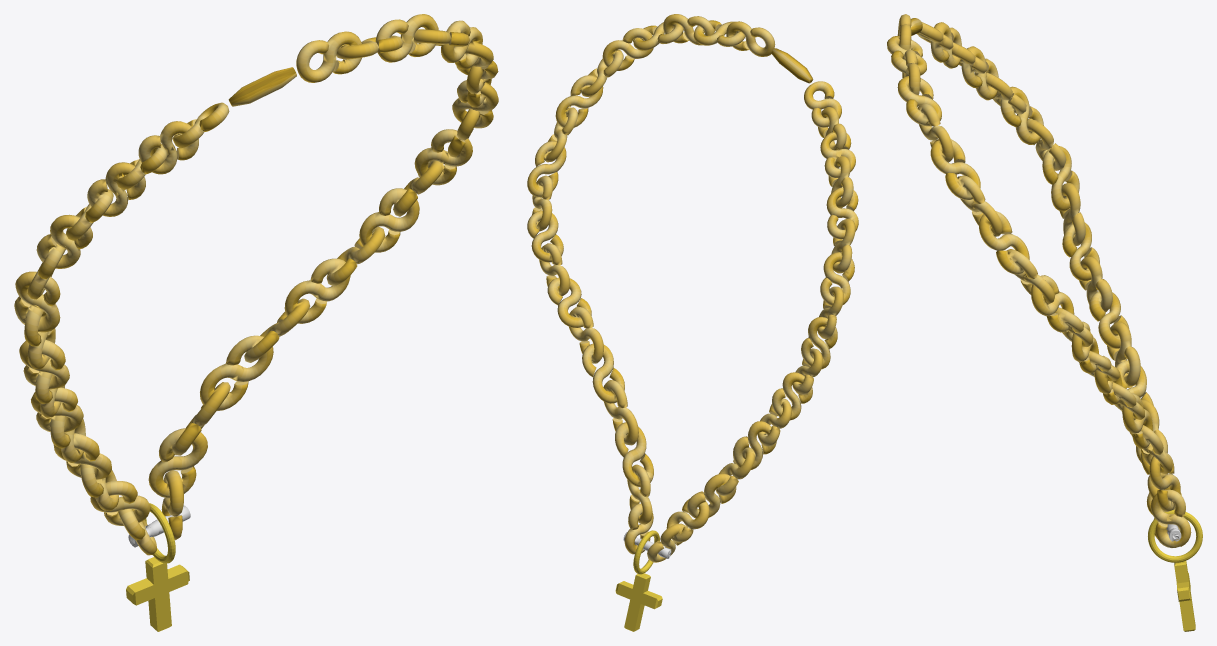
Rendered from MM__BadeDyNatGuldKaede22.glb.
3 views of the same model, side by side, from view 1: azimuth 30°, elevation 25°; view 2: azimuth 150°, elevation 25°; view 3: azimuth 270°, elevation 25° (orthographic). The views are drawn at different scales.
Parts seen in each view (by area): view 1: 04_GuldKaede, 04_GuldKors; view 2: 04_GuldKaede, 04_GuldKors; view 3: 04_GuldKaede, 04_GuldKors.
Part boxes in pixels (x1,y1,x2,y2): 04_GuldKaede: [14, 14, 498, 555]; 04_GuldKors: [126, 503, 189, 631]; 04_GuldKaede: [527, 14, 858, 562]; 04_GuldKors: [615, 530, 662, 631]; 04_GuldKaede: [887, 14, 1191, 548]; 04_GuldKors: [1148, 509, 1202, 631].
Size of the model in its own units: 0.3233 by 0.4967 by 0.2323.
3 materials, 1 textured.
